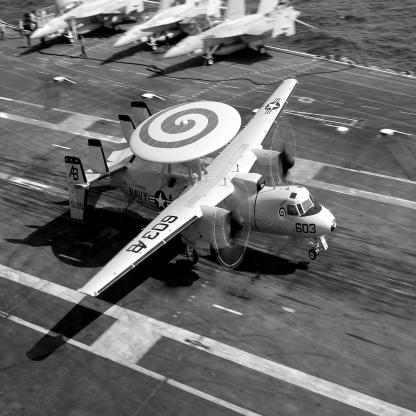E2: (66, 80, 338, 299)
F18: (163, 1, 321, 67), (112, 2, 229, 52), (30, 2, 146, 45)
